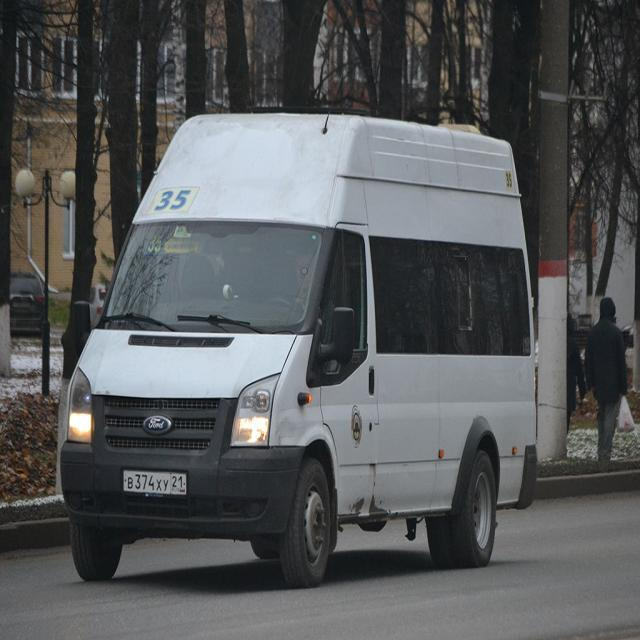number-of-bus: (154, 188, 195, 214)
